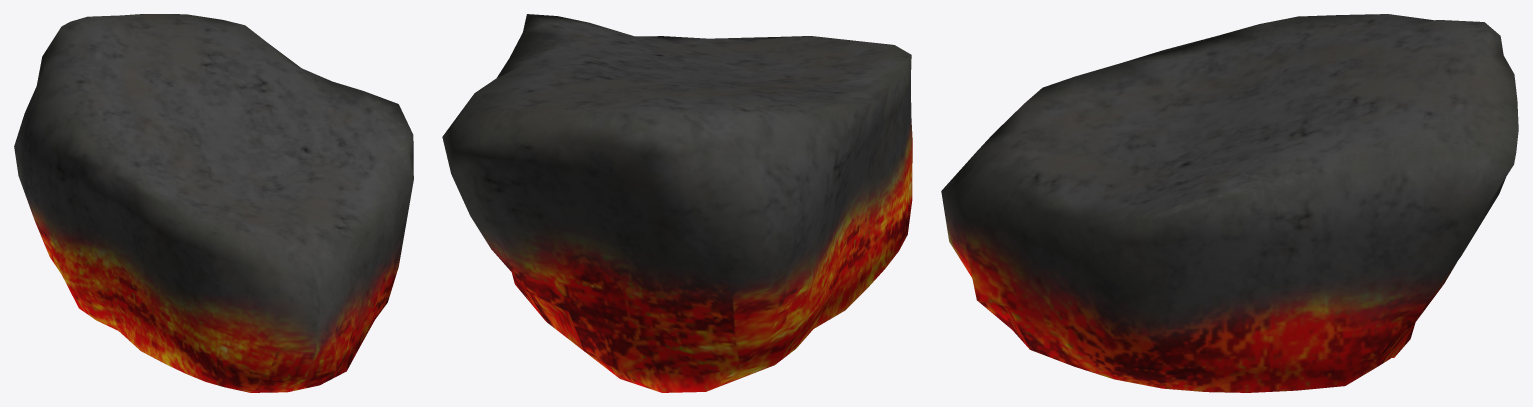
Rendered from Rock_4.fbx.
3 renders of one model, left to right at view 1: azimuth 30°, elevation 25°; view 2: azimuth 150°, elevation 25°; view 3: azimuth 270°, elevation 25°, orthographic. The views are drawn at different scales.
Visible parts, largest first — view 1: Rock_6:Group63712; view 2: Rock_6:Group63712; view 3: Rock_6:Group63712.
Part boxes in pixels (x1,y1,x2,y2): Rock_6:Group63712: (14,14,413,392); Rock_6:Group63712: (442,14,912,392); Rock_6:Group63712: (941,14,1518,392).
Bounding box in the file's own units: 2.25 × 1.86 × 3.16.
1 material, 1 textured.
